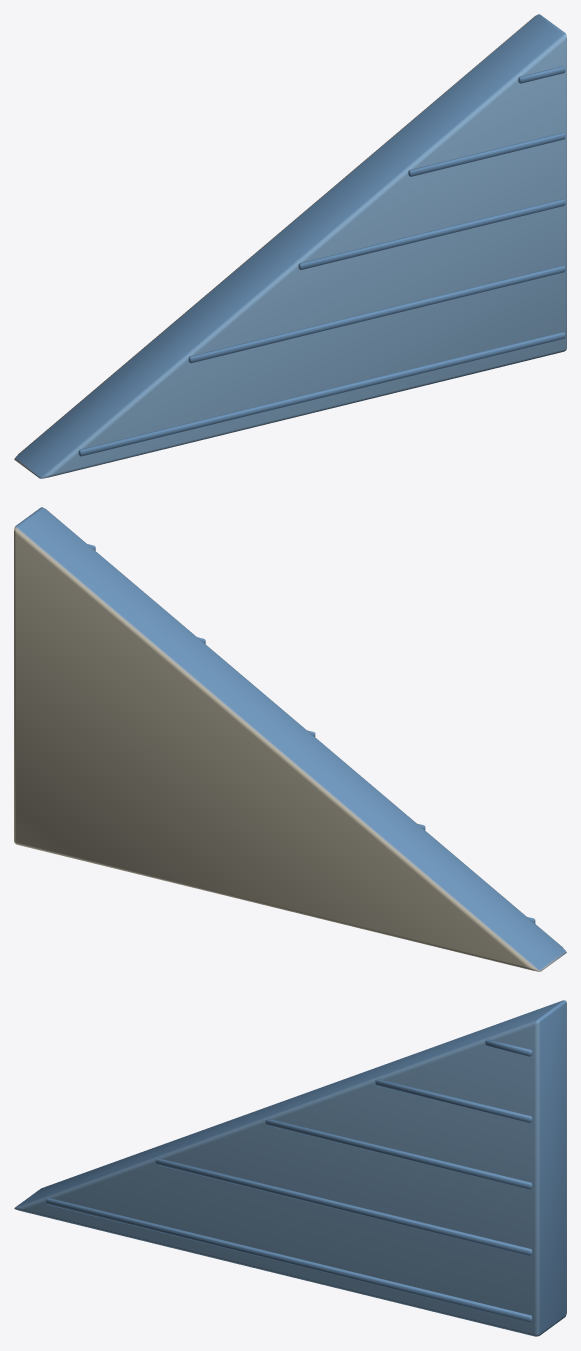
The model's file is gable_blue_l.glb.
3 views of the same model, one above another, from view 1: azimuth 30°, elevation 25°; view 2: azimuth 150°, elevation 25°; view 3: azimuth 330°, elevation 25° (orthographic).
Parts seen in each view (by area): view 1: gable_blue_l; view 2: gable_blue_l; view 3: gable_blue_l.
Boxes of the visible parts, bbox=[...] form: gable_blue_l: bbox=[14, 14, 566, 478]; gable_blue_l: bbox=[14, 507, 566, 971]; gable_blue_l: bbox=[14, 1000, 566, 1336].
Bounding box in the file's own units: 1.99 × 1.15 × 0.216.
